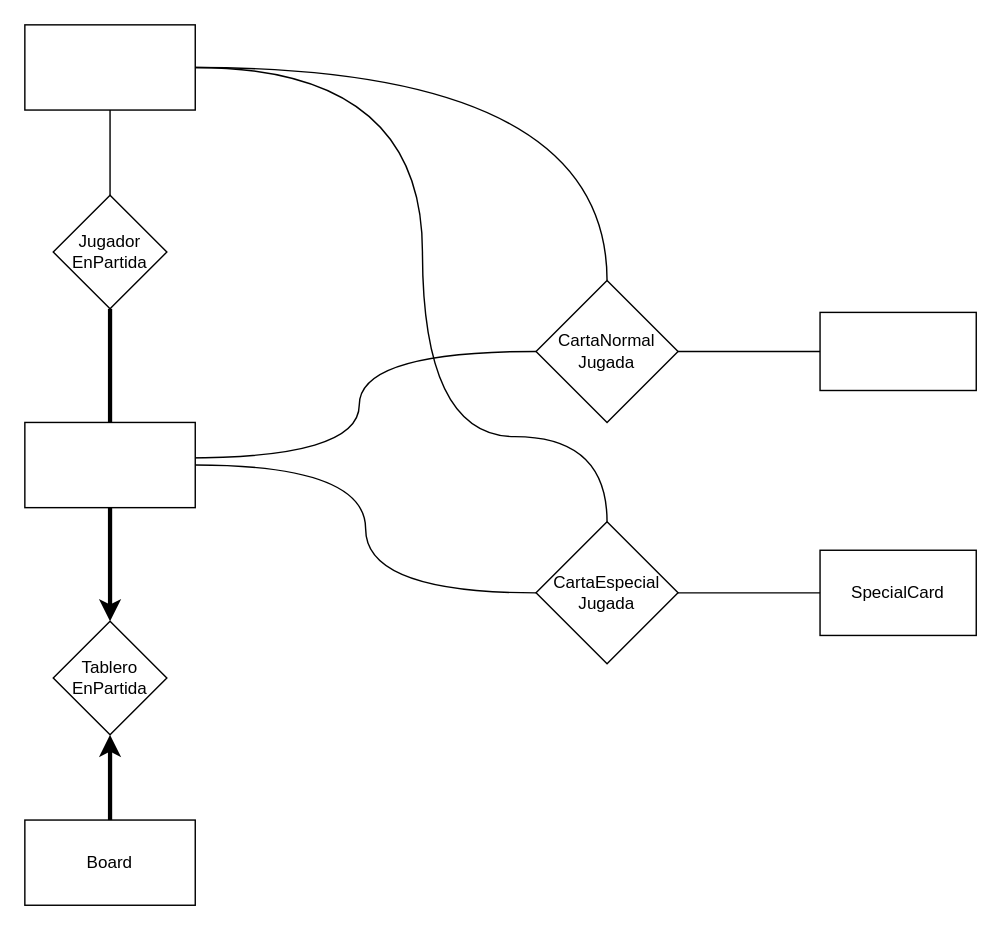
Some shapes in this 1001 by 930 pixel diagram are drawn without their labels. Each missing label, with the box of its shape:
Game: (23, 421, 195, 508)
NormalCard: (819, 311, 976, 390)
User: (23, 23, 195, 110)
